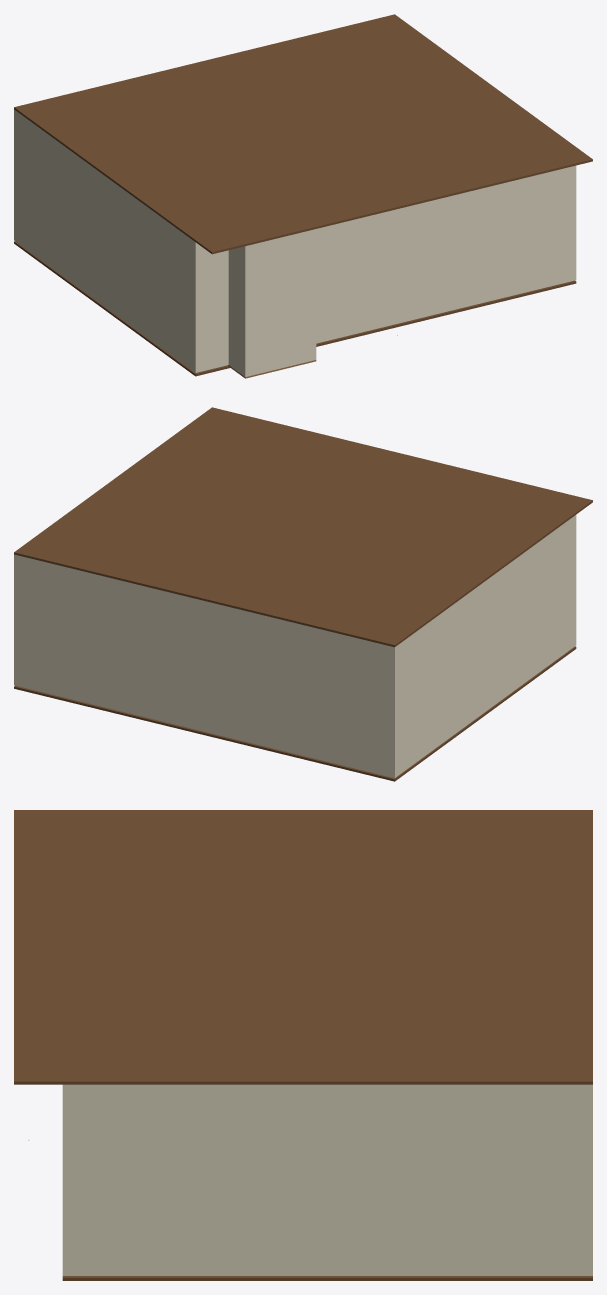
File: japan_kit29_cat_cafe_interior2.fbx
3 renders of one model, top to bottom at view 1: azimuth 30°, elevation 25°; view 2: azimuth 150°, elevation 25°; view 3: azimuth 270°, elevation 25°, orthographic. The views are drawn at different scales.
Visible parts, largest first — view 1: CI2_CeilingBase_OakDark, CI2_FrontRight_Wall, CI2_LeftWall_Wall, CI2_VestibuleEnd_Wall, CI2_FrontLeft_Wall, CI2_VestibuleLeft_Wall, CI2_FloorBase_OakDark; view 2: CI2_CeilingBase_OakDark, CI2_BackWall_Wall, CI2_LeftWall_Wall, CI2_FloorBase_OakDark; view 3: CI2_CeilingBase_OakDark, CI2_RightWall_Wall, CI2_FloorBase_OakDark, CI2_FrontRight_Wall, CI2_BackWall_Wall.
Boxes of the visible parts, x1,y1,x2,y2 form: CI2_CeilingBase_OakDark: [14, 14, 592, 254]; CI2_FrontRight_Wall: [316, 166, 576, 343]; CI2_LeftWall_Wall: [14, 110, 197, 372]; CI2_VestibuleEnd_Wall: [244, 229, 316, 376]; CI2_FrontLeft_Wall: [194, 242, 228, 372]; CI2_VestibuleLeft_Wall: [228, 246, 247, 376]; CI2_FloorBase_OakDark: [14, 241, 576, 376]; CI2_CeilingBase_OakDark: [14, 407, 592, 647]; CI2_BackWall_Wall: [14, 554, 395, 777]; CI2_LeftWall_Wall: [392, 516, 574, 776]; CI2_FloorBase_OakDark: [14, 646, 576, 781]; CI2_CeilingBase_OakDark: [14, 810, 592, 1084]; CI2_RightWall_Wall: [62, 1084, 592, 1275]; CI2_FloorBase_OakDark: [62, 1276, 592, 1280]; CI2_FrontRight_Wall: [62, 1084, 66, 1275]; CI2_BackWall_Wall: [589, 1084, 592, 1275].
Bounding box in the file's own units: 34.4 × 11.77 × 31.
